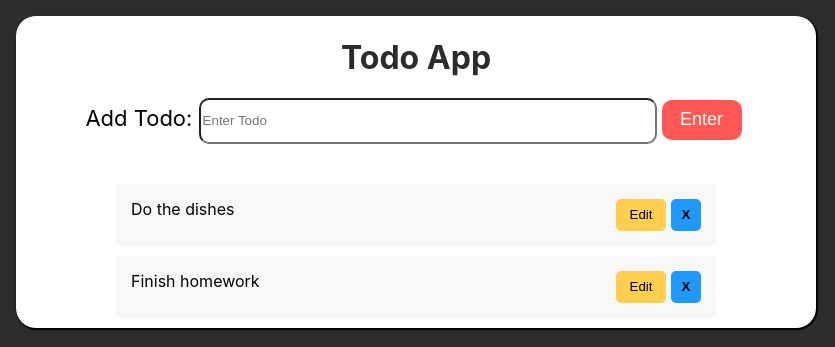
Test case: Todo App › should remove todo
Expected: the text "Do the dishes" is shown, [131,199,234,231]
What coordinates should you click on to do the following:
click the button "X" in the row of "Do the dishes"
I would click on:
 (686, 215)
Its box is [671,199,701,231].
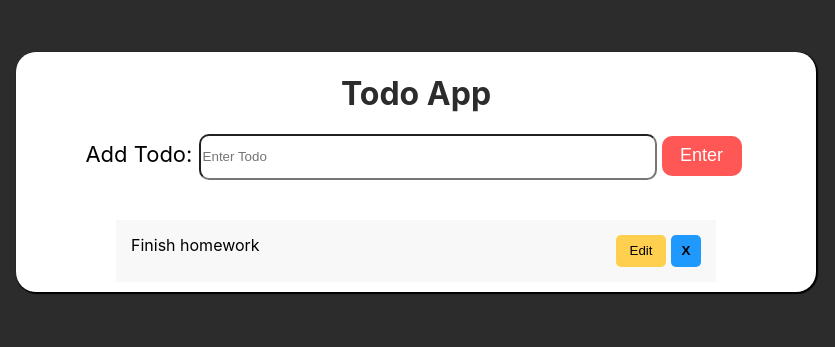
Expected: the text "Do the dishes" is gone
